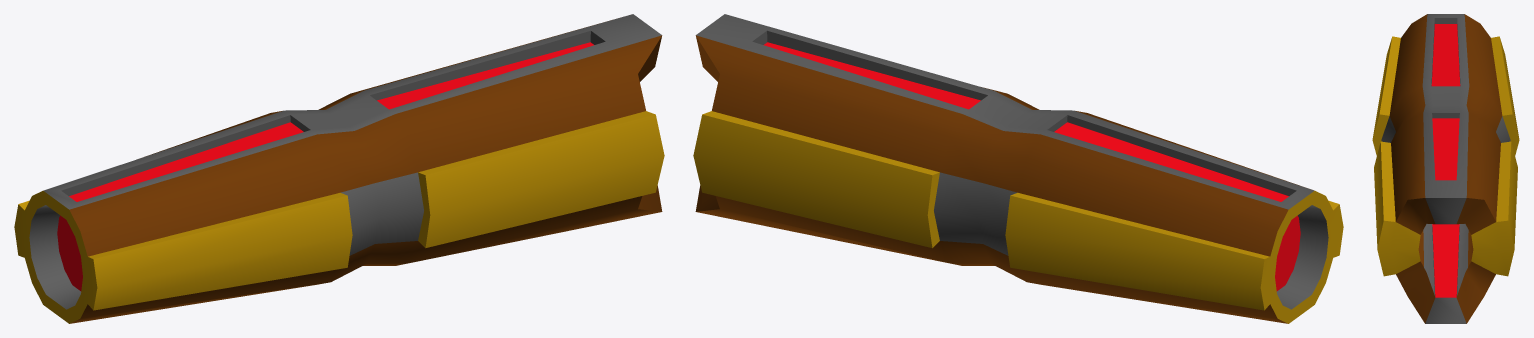
The model's file is ArmaBasica.fbx.
The picture shows the model from 3 angles, left to right: view 1: azimuth 30°, elevation 25°; view 2: azimuth 150°, elevation 25°; view 3: azimuth 270°, elevation 25°; orthographic projection. The views are drawn at different scales.
Parts seen in each view (by area): view 1: ArmaBasica; view 2: ArmaBasica; view 3: ArmaBasica.
Part boxes in pixels (left/top/right/bottom): ArmaBasica: left=14, top=14, right=664, bottom=323; ArmaBasica: left=693, top=14, right=1343, bottom=323; ArmaBasica: left=1372, top=14, right=1519, bottom=323.
Bounding box in the file's own units: 75.1 × 21.55 × 22.63.
